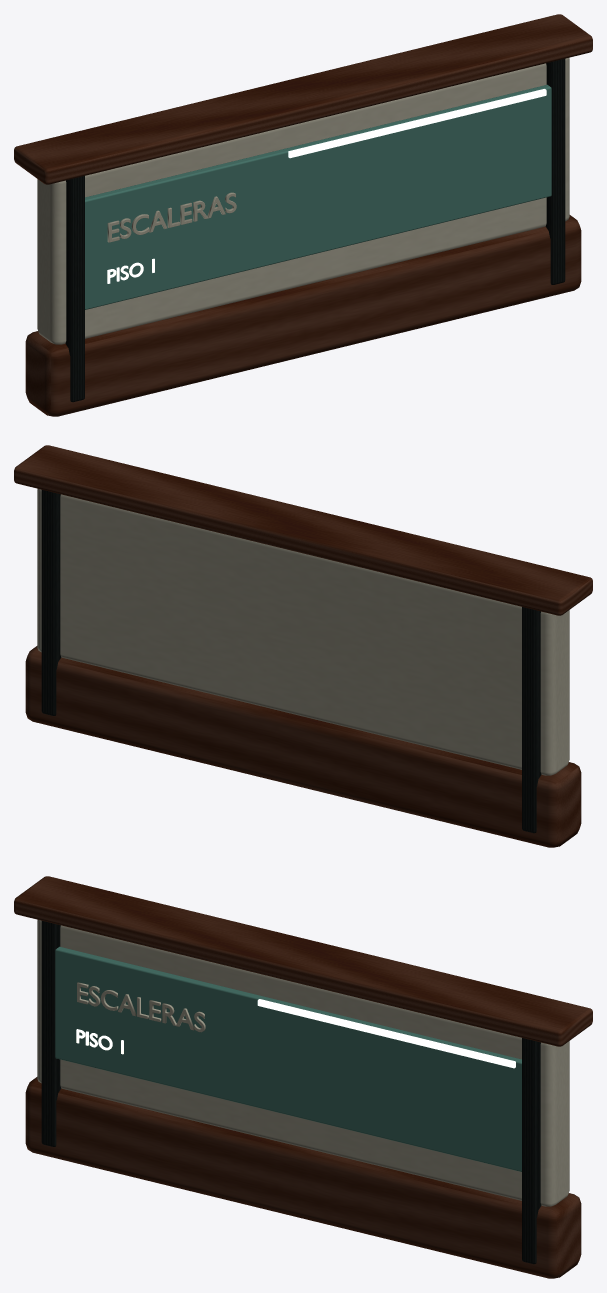
File: lobby-circulation-screen.glb
3 renders of one model, top to bottom at view 1: azimuth 30°, elevation 25°; view 2: azimuth 150°, elevation 25°; view 3: azimuth 330°, elevation 25°, orthographic.
Parts seen in each view (by area): view 1: CirculationScreen_Inset, CirculationScreen_Plinth, CirculationScreen_Body, CirculationScreen_Top, CirculationScreen_EndCap_-2.24, CirculationScreen_EndCap_2.24, CirculationScreen_Light, CirculationScreen_Title; view 2: CirculationScreen_Body, CirculationScreen_Plinth, CirculationScreen_Top, CirculationScreen_EndCap_2.24, CirculationScreen_EndCap_-2.24; view 3: CirculationScreen_Inset, CirculationScreen_Plinth, CirculationScreen_Body, CirculationScreen_Top, CirculationScreen_EndCap_2.24, CirculationScreen_EndCap_-2.24, CirculationScreen_Light, CirculationScreen_Title.
Boxes of the visible parts, x1,y1,x2,y2 form: CirculationScreen_Inset: [85, 84, 551, 309]; CirculationScreen_Plinth: [25, 215, 581, 416]; CirculationScreen_Body: [37, 58, 569, 344]; CirculationScreen_Top: [14, 14, 592, 184]; CirculationScreen_EndCap_-2.24: [65, 176, 84, 402]; CirculationScreen_EndCap_2.24: [545, 59, 565, 284]; CirculationScreen_Light: [288, 89, 546, 158]; CirculationScreen_Title: [107, 192, 236, 242]; CirculationScreen_Body: [37, 489, 569, 775]; CirculationScreen_Plinth: [25, 646, 581, 847]; CirculationScreen_Top: [14, 445, 592, 615]; CirculationScreen_EndCap_2.24: [41, 490, 61, 715]; CirculationScreen_EndCap_-2.24: [522, 607, 541, 833]; CirculationScreen_Inset: [55, 946, 521, 1171]; CirculationScreen_Plinth: [25, 1077, 581, 1278]; CirculationScreen_Body: [37, 920, 569, 1206]; CirculationScreen_Top: [14, 876, 592, 1046]; CirculationScreen_EndCap_2.24: [522, 1038, 541, 1264]; CirculationScreen_EndCap_-2.24: [41, 921, 61, 1146]; CirculationScreen_Light: [257, 999, 515, 1068]; CirculationScreen_Title: [77, 982, 205, 1032].
Size of the model in its own units: 5.12 by 2.29 by 0.54.
8 materials, 5 textured.
